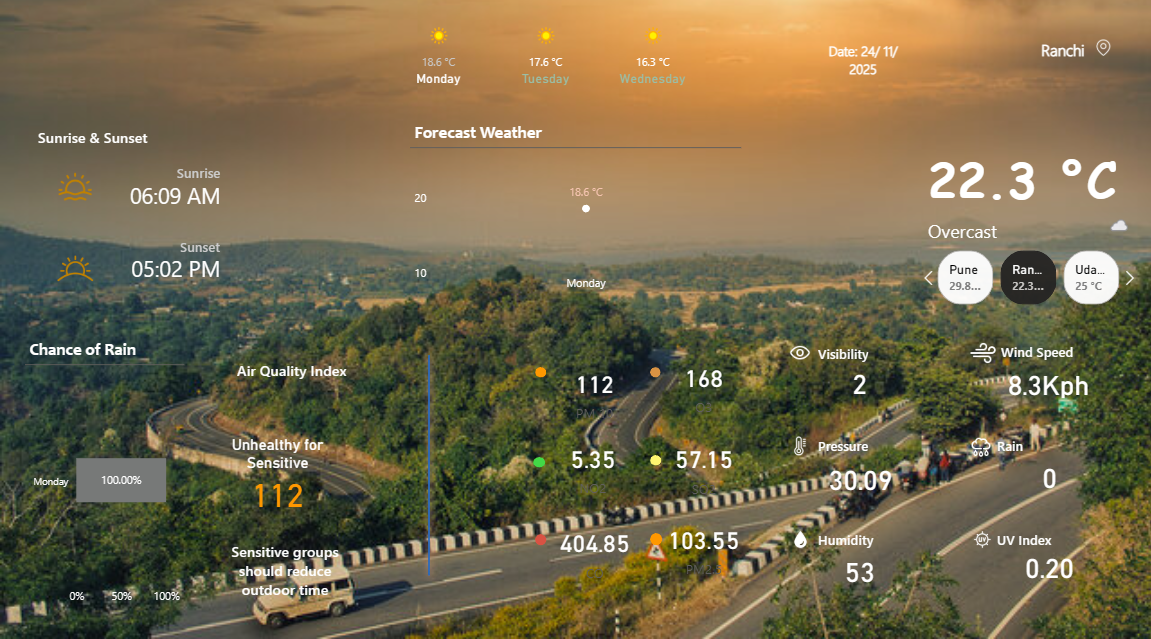

This screenshot's page, from the dashboard's own definition file:
{"tool":"powerbi","page":{"name":"Page 1","canvas":[1280,720],"ordinal":0},"visuals":[{"type":"advancedSlicerVisual","fields":{"Values":["Location.location.name"]},"box":[1017.2,281,255,70],"z":2000},{"type":"shape","box":[1031.5,152.6,211.9,106.8],"z":3000},{"type":"shape","box":[1031.5,242.4,115.8,42.2],"z":4000},{"type":"shape","box":[1049.1,43.9,156.1,34.2],"z":5000},{"type":"image","box":[1210.1,47.2,32.5,27.7],"z":6000},{"type":"shape","box":[917.5,44,82.6,57.5],"z":7000},{"type":"cardVisual","fields":{"Data":["Min(Current.current.condition.icon)"]},"box":[1184.1,211,90.7,94.3],"z":8000},{"type":"image","box":[868.9,381.1,40,36.7],"z":9000},{"type":"shape","box":[908.9,384.4,134.4,31.1],"z":10000},{"type":"image","box":[1070,486.7,40,35.6],"z":11000},{"type":"image","box":[868.9,487.8,40,31.1],"z":12000},{"type":"image","box":[1074.4,592.2,34.4,30],"z":13000},{"type":"image","box":[1072.2,380,40,40],"z":14000},{"type":"image","box":[874.4,592.2,30,30],"z":15000},{"type":"shape","box":[1112.2,383.3,125.6,30],"z":16000},{"type":"shape","box":[908.9,486.7,134.4,31.1],"z":17000},{"type":"shape","box":[1107.8,486.7,135.6,31.1],"z":18000},{"type":"shape","box":[908.9,591.1,134.4,31.1],"z":19000},{"type":"shape","box":[1107.8,592.2,134.4,30],"z":20000},{"type":"card","fields":{"Values":["Sum(Current.current.humidity)"]},"box":[927.8,620,54.4,43.3],"z":21000},{"type":"card","fields":{"Values":["Sum(Current.current.uv)"]},"box":[1122.2,616.7,87.8,42.2],"z":22000},{"type":"card","fields":{"Values":["Sum(Current.current.pressure_in)"]},"box":[908.9,518.9,94.4,42.2],"z":23000},{"type":"card","fields":{"Values":["Sum(Current.current.vis_km)"]},"box":[917.8,412.2,74.4,42.2],"z":24000},{"type":"card","fields":{"Values":["_Measures.Wind_Speed"]},"box":[1100,412.2,130,43.3],"z":25000},{"type":"card","fields":{"Values":["Sum(Forecast_day.forecast.forecastday.day.daily_chance_of_rain)"]},"box":[1118.9,515.6,94.4,43.3],"z":26000},{"type":"lineChart","title":"Forecast Weather","fields":{"Y":["Sum(Forecast_day.forecast.forecastday.day.avgtemp_c)"],"Category":["Forecast_day.Day_Name"]},"box":[456.1,143.6,368.1,196.6],"z":27000},{"type":"advancedSlicerVisual","fields":{"Values":["Forecast_day.Day_Name"]},"box":[426.4,24.2,360,96.1],"z":28000},{"type":"shape","box":[42.3,144.8,135,30.9],"z":29000},{"type":"shape","box":[111.8,190,132.7,68.2],"z":30000},{"type":"shape","box":[110.6,271.6,133.4,68.3],"z":31000},{"type":"shape","box":[136.4,184.5,108.2,30.9],"z":32000},{"type":"shape","box":[134.5,266.4,110,30],"z":33000},{"type":"image","box":[51.8,274.5,63.6,62.7],"z":34000},{"type":"image","box":[60,190.9,47.3,48.2],"z":35000},{"type":"hundredPercentStackedBarChart","title":"Chance of Rain","fields":{"Y":["Sum(Forecast_day.forecast.forecastday.day.daily_chance_of_rain)","Current.Left_value_Rain"],"Category":["Forecast_day.Day_Name"]},"box":[27.8,384.2,176.9,302.5],"z":36000},{"type":"shape","box":[263,404,135.6,28.7],"z":37000},{"type":"card","fields":{"Values":["Sum(Current.current.air_quality.pm10)"]},"box":[607.8,404,105.9,78.1],"z":38000},{"type":"shape","box":[594.5,600.9,12.7,12.7],"z":39000},{"type":"card","fields":{"Values":["Sum(Current.current.air_quality.o3)"]},"box":[729.1,398.2,106.4,78.2],"z":40000},{"type":"card","fields":{"Values":["Sum(Current.current.air_quality.so2)"]},"box":[729.1,489.1,106.4,77.3],"z":41000},{"type":"card","fields":{"Values":["Sum(Current.current.air_quality.no2)"]},"box":[605.5,488.2,106.4,78.2],"z":42000},{"type":"card","fields":{"Values":["Sum(Current.current.air_quality.co)"]},"box":[607.3,581.8,106.4,77.3],"z":43000},{"type":"card","fields":{"Values":["Sum(Current.current.air_quality.pm2_5)"]},"box":[729.1,578.2,106.4,78.2],"z":44000},{"type":"shape","box":[722.7,513.6,12.7,11.8],"z":45000},{"type":"shape","box":[594.5,415.5,12.7,11.8],"z":46000},{"type":"shape","box":[722.7,415.5,11.8,11.8],"z":47000},{"type":"shape","box":[592.7,515.5,13.6,11.8],"z":48000},{"type":"shape","box":[722.7,600,13.6,13.6],"z":49000},{"type":"shape","box":[456.1,393.2,42.2,263],"z":50000},{"type":"card","fields":{"Values":["Sum(Current.current.air_quality.pm10)"]},"box":[245.1,492,125.7,108.6],"z":51000},{"type":"shape","box":[236.1,609.6,162.5,63.7],"z":52000}]}

Visuals, with their boxes in screenshot pixels (x1, y1, x2, y2), scaled from the page's 1280x720 canvas onto the 1151x639 screenshot:
advancedSlicerVisual - Location.location.name: x1=915 y1=249 x2=1144 y2=312
shape: x1=928 y1=135 x2=1118 y2=230
shape: x1=928 y1=215 x2=1032 y2=253
shape: x1=943 y1=39 x2=1084 y2=69
image: x1=1088 y1=42 x2=1117 y2=66
shape: x1=825 y1=39 x2=899 y2=90
cardVisual - Min(Current.current.condition.icon): x1=1065 y1=187 x2=1146 y2=271
image: x1=781 y1=338 x2=817 y2=371
shape: x1=817 y1=341 x2=938 y2=369
image: x1=962 y1=432 x2=998 y2=464
image: x1=781 y1=433 x2=817 y2=461
image: x1=966 y1=526 x2=997 y2=552
image: x1=964 y1=337 x2=1000 y2=373
image: x1=786 y1=526 x2=813 y2=552
shape: x1=1000 y1=340 x2=1113 y2=367
shape: x1=817 y1=432 x2=938 y2=460
shape: x1=996 y1=432 x2=1118 y2=460
shape: x1=817 y1=525 x2=938 y2=552
shape: x1=996 y1=526 x2=1117 y2=552
card - Sum(Current.current.humidity): x1=834 y1=550 x2=883 y2=589
card - Sum(Current.current.uv): x1=1009 y1=547 x2=1088 y2=585
card - Sum(Current.current.pressure_in): x1=817 y1=461 x2=902 y2=498
card - Sum(Current.current.vis_km): x1=825 y1=366 x2=892 y2=403
card - _Measures.Wind_Speed: x1=989 y1=366 x2=1106 y2=404
card - Sum(Forecast_day.forecast.forecastday.day.daily_chance_of_rain): x1=1006 y1=458 x2=1091 y2=496
"Forecast Weather" lineChart: x1=410 y1=127 x2=741 y2=302
advancedSlicerVisual - Forecast_day.Day_Name: x1=383 y1=21 x2=707 y2=107
shape: x1=38 y1=129 x2=159 y2=156
shape: x1=101 y1=169 x2=220 y2=229
shape: x1=99 y1=241 x2=219 y2=302
shape: x1=123 y1=164 x2=220 y2=191
shape: x1=121 y1=236 x2=220 y2=263
image: x1=47 y1=244 x2=104 y2=299
image: x1=54 y1=169 x2=96 y2=212
"Chance of Rain" hundredPercentStackedBarChart: x1=25 y1=341 x2=184 y2=609
shape: x1=236 y1=359 x2=358 y2=384
card - Sum(Current.current.air_quality.pm10): x1=547 y1=359 x2=642 y2=428
shape: x1=535 y1=533 x2=546 y2=545
card - Sum(Current.current.air_quality.o3): x1=656 y1=353 x2=751 y2=423
card - Sum(Current.current.air_quality.so2): x1=656 y1=434 x2=751 y2=503
card - Sum(Current.current.air_quality.no2): x1=544 y1=433 x2=640 y2=503
card - Sum(Current.current.air_quality.co): x1=546 y1=516 x2=642 y2=585
card - Sum(Current.current.air_quality.pm2_5): x1=656 y1=513 x2=751 y2=583
shape: x1=650 y1=456 x2=661 y2=466
shape: x1=535 y1=369 x2=546 y2=379
shape: x1=650 y1=369 x2=660 y2=379
shape: x1=533 y1=458 x2=545 y2=468
shape: x1=650 y1=532 x2=662 y2=545
shape: x1=410 y1=349 x2=448 y2=582
card - Sum(Current.current.air_quality.pm10): x1=220 y1=437 x2=333 y2=533
shape: x1=212 y1=541 x2=358 y2=598
